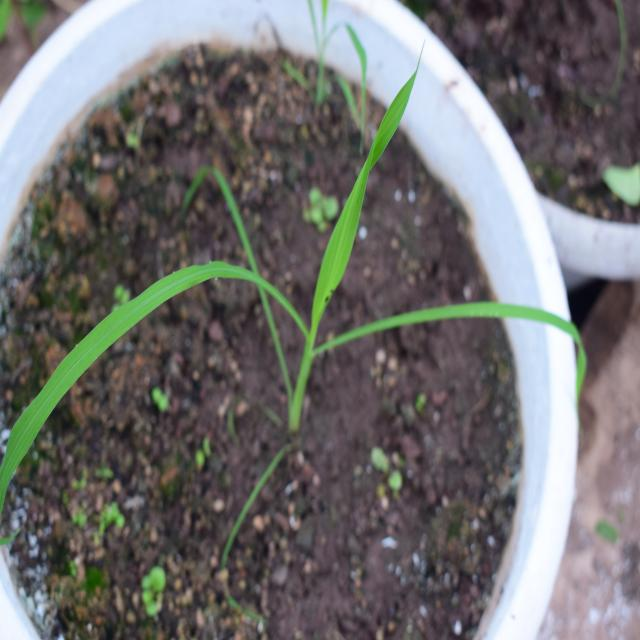barnyard_grass: (58, 113, 603, 460)
